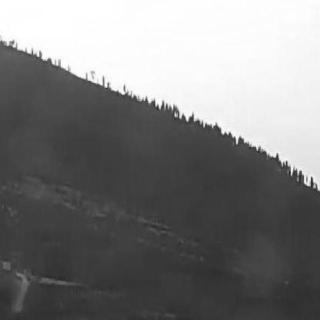other: (166, 71, 308, 188)
